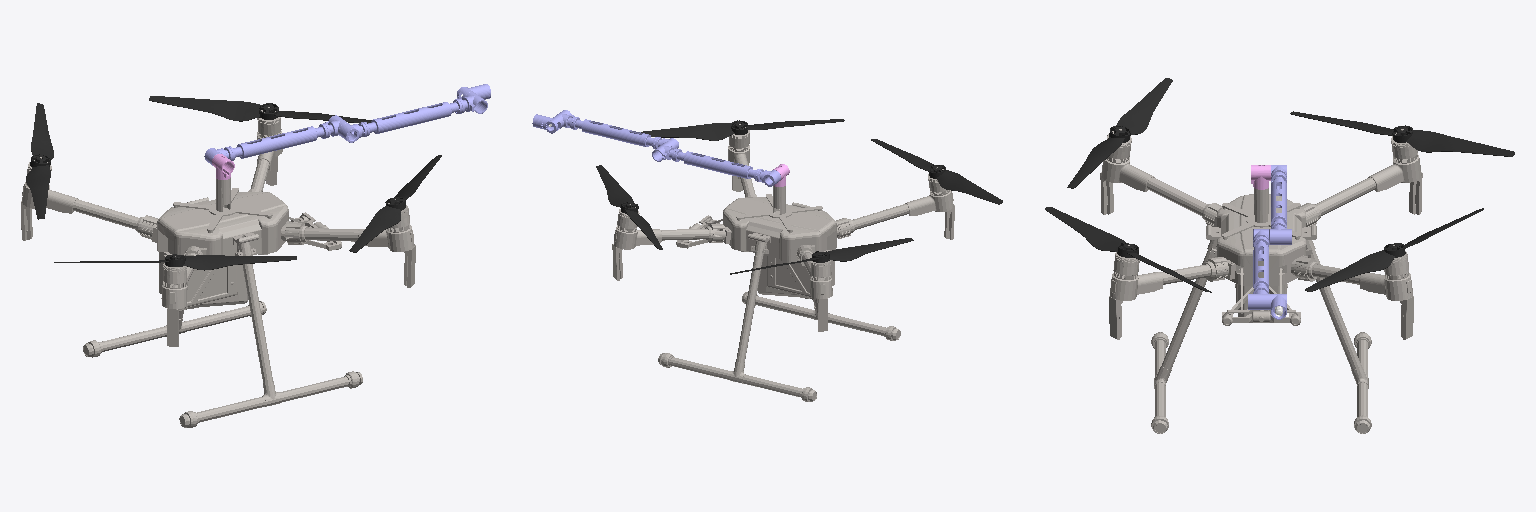
robot.urdf — new2:
<?xml version="1.0" encoding="utf-8"?>
<!-- This URDF was automatically created by SolidWorks to URDF Exporter! Originally created by [author] ([email redacted]) 
     Commit Version: 1.6.0-4-g7f85cfe  Build Version: 1.6.7995.38578
     For more information, please see http://wiki.ros.org/sw_urdf_exporter -->
<robot
  name="new2">
  <link
    name="base_link">
    <inertial>
      <origin
        xyz="-0.0201089284570512 -2.77631786448126E-06 -0.176933144781233"
        rpy="0 0 0" />
      <mass
        value="51.5159805638904" />
      <inertia
        ixx="1.08774874792804"
        ixy="-0.000444236694767279"
        ixz="-0.142228032907984"
        iyy="1.65793680664318"
        iyz="-1.35357674970298E-05"
        izz="1.45117254009097" />
    </inertial>
    <visual>
      <origin
        xyz="0 0 0"
        rpy="0 0 0" />
      <geometry>
        <mesh
          filename="../meshes/base_link.STL" />
      </geometry>
      <material
        name="">
        <color
          rgba="0.776470588235294 0.756862745098039 0.737254901960784 1" />
      </material>
    </visual>
    <collision>
      <origin
        xyz="0 0 0"
        rpy="0 0 0" />
      <geometry>
        <mesh
          filename="../meshes/base_link.STL" />
      </geometry>
    </collision>
  </link>
  <link
    name="left1_link">
    <inertial>
      <origin
        xyz="3.15813883955407E-06 -8.26032661049858E-07 0.0432905862959428"
        rpy="0 0 0" />
      <mass
        value="0.231951690789109" />
      <inertia
        ixx="0.00488971329049445"
        ixy="0.00518070195693205"
        ixz="-2.52614197387892E-08"
        iyy="0.00578737545063464"
        iyz="1.01279503264898E-08"
        izz="0.0106407199839185" />
    </inertial>
    <visual>
      <origin
        xyz="0 0 0"
        rpy="0 0 0" />
      <geometry>
        <mesh
          filename="../meshes/left1_link.STL" />
      </geometry>
      <material
        name="">
        <color
          rgba="0.223529411764706 0.223529411764706 0.223529411764706 1" />
      </material>
    </visual>
    <collision>
      <origin
        xyz="0 0 0"
        rpy="0 0 0" />
      <geometry>
        <mesh
          filename="../meshes/left1_link.STL" />
      </geometry>
    </collision>
  </link>
  <joint
    name="left1_joint"
    type="continuous">
    <origin
      xyz="0.52589 0.52825 0.07739"
      rpy="0.10906 -0.087356 0" />
    <parent
      link="base_link" />
    <child
      link="left1_link" />
    <axis
      xyz="0 0 1" />
  </joint>
  <link
    name="left2_link">
    <inertial>
      <origin
        xyz="0.00173040075826469 -0.00211432817480195 0.0332357241186076"
        rpy="0 0 0" />
      <mass
        value="0.237839201882468" />
      <inertia
        ixx="0.00193817437357072"
        ixy="-0.000986862305371164"
        ixz="5.61184791102314E-05"
        iyy="0.000679964848816823"
        iyz="8.60808416281367E-05"
        izz="0.00257442572178748" />
    </inertial>
    <visual>
      <origin
        xyz="0 0 0"
        rpy="0 0 0" />
      <geometry>
        <mesh
          filename="../meshes/left2_link.STL" />
      </geometry>
      <material
        name="">
        <color
          rgba="0.223529411764706 0.223529411764706 0.223529411764706 1" />
      </material>
    </visual>
    <collision>
      <origin
        xyz="0 0 0"
        rpy="0 0 0" />
      <geometry>
        <mesh
          filename="../meshes/left2_link.STL" />
      </geometry>
    </collision>
  </link>
  <joint
    name="left2_joint"
    type="continuous">
    <origin
      xyz="-0.5512 0.56001 0.092971"
      rpy="0.10948 0 0" />
    <parent
      link="base_link" />
    <child
      link="left2_link" />
    <axis
      xyz="0 0 1" />
  </joint>
  <link
    name="right1_link">
    <inertial>
      <origin
        xyz="-6.8843E-07 -2.7373E-06 0.038414"
        rpy="0 0 0" />
      <mass
        value="0.23195" />
      <inertia
        ixx="0.0045043"
        ixy="-0.0051327"
        ixz="1.4863E-08"
        iyy="0.0061727"
        iyz="2.517E-08"
        izz="0.010641" />
    </inertial>
    <visual>
      <origin
        xyz="0 0 0"
        rpy="0 0 0" />
      <geometry>
        <mesh
          filename="../meshes/right1_link.STL" />
      </geometry>
      <material
        name="">
        <color
          rgba="0.22353 0.22353 0.22353 1" />
      </material>
    </visual>
    <collision>
      <origin
        xyz="0 0 0"
        rpy="0 0 0" />
      <geometry>
        <mesh
          filename="../meshes/right1_link.STL" />
      </geometry>
    </collision>
  </link>
  <joint
    name="right1_joint"
    type="continuous">
    <origin
      xyz="0.52547 -0.52772 0.08222"
      rpy="-0.10906 -0.087356 0" />
    <parent
      link="base_link" />
    <child
      link="right1_link" />
    <axis
      xyz="0 0 1" />
  </joint>
  <link
    name="right2_link">
    <inertial>
      <origin
        xyz="0.002239 -0.00097223 0.016162"
        rpy="0 0 0" />
      <mass
        value="0.23784" />
      <inertia
        ixx="0.00045811"
        ixy="0.00080872"
        ixz="-2.0409E-07"
        iyy="0.0021551"
        iyz="2.7954E-07"
        izz="0.0025793" />
    </inertial>
    <visual>
      <origin
        xyz="0 0 0"
        rpy="0 0 0" />
      <geometry>
        <mesh
          filename="../meshes/right2_link.STL" />
      </geometry>
      <material
        name="">
        <color
          rgba="0.22353 0.22353 0.22353 1" />
      </material>
    </visual>
    <collision>
      <origin
        xyz="0 0 0"
        rpy="0 0 0" />
      <geometry>
        <mesh
          filename="../meshes/right2_link.STL" />
      </geometry>
    </collision>
  </link>
  <joint
    name="right2_joint"
    type="continuous">
    <origin
      xyz="-0.54972 -0.55807 0.10989"
      rpy="-0.10906 0.087356 0" />
    <parent
      link="base_link" />
    <child
      link="right2_link" />
    <axis
      xyz="0 0 1" />
  </joint>
  <link
    name="link2">
    <inertial>
      <origin
        xyz="2.85788322966843E-07 -0.00025978560628231 0.0362411422370292"
        rpy="0 0 0" />
      <mass
        value="0.18738358040081" />
      <inertia
        ixx="0.00020579885646994"
        ixy="-7.19710243232307E-13"
        ixz="-2.8495125819787E-11"
        iyy="0.000194901324742815"
        iyz="-1.2358955026709E-06"
        izz="0.000144059212151207" />
    </inertial>
    <visual>
      <origin
        xyz="0 0 0"
        rpy="0 0 0" />
      <geometry>
        <mesh
          filename="../meshes/link2.STL" />
      </geometry>
      <material
        name="">
        <color
          rgba="1 0.752941176470588 1 1" />
      </material>
    </visual>
    <collision>
      <origin
        xyz="0 0 0"
        rpy="0 0 0" />
      <geometry>
        <mesh
          filename="../meshes/link2.STL" />
      </geometry>
    </collision>
  </link>
  <joint
    name="joint2"
    type="revolute">
    <origin
      xyz="0.0001427 -0.00023506 0.1546"
      rpy="0 0 0" />
    <parent
      link="base_link" />
    <child
      link="link2" />
    <axis
      xyz="0 0 1" />
    <limit
      lower="-3.14"
      upper="3.14"
      effort="100"
      velocity="1" />
  </joint>
  <link
    name="link3">
    <inertial>
      <origin
        xyz="0.28703 1.896E-09 0.031412"
        rpy="0 0 0" />
      <mass
        value="0.97581" />
      <inertia
        ixx="0.00065271"
        ixy="-1.5536E-09"
        ixz="-1.9589E-05"
        iyy="0.012374"
        iyz="-1.4541E-09"
        izz="0.012302" />
    </inertial>
    <visual>
      <origin
        xyz="0 0 0"
        rpy="0 0 0" />
      <geometry>
        <mesh
          filename="../meshes/link3.STL" />
      </geometry>
      <material
        name="">
        <color
          rgba="0.75294 0.75294 1 1" />
      </material>
    </visual>
    <collision>
      <origin
        xyz="0 0 0"
        rpy="0 0 0" />
      <geometry>
        <mesh
          filename="../meshes/link3.STL" />
      </geometry>
    </collision>
  </link>
  <joint
    name="joint3"
    type="revolute">
    <origin
      xyz="0 0.03799 0.06"
      rpy="-1.5708 0 0" />
    <parent
      link="link2" />
    <child
      link="link3" />
    <axis
      xyz="0 0 1" />
    <limit
      lower="-3.14"
      upper="3.14"
      effort="100"
      velocity="1" />
  </joint>
  <link
    name="link4">
    <inertial>
      <origin
        xyz="0.28702 1.8886E-09 0.031412"
        rpy="0 0 0" />
      <mass
        value="0.97581" />
      <inertia
        ixx="0.00065271"
        ixy="1.4508E-09"
        ixz="-1.9589E-05"
        iyy="0.012374"
        iyz="1.4672E-09"
        izz="0.012302" />
    </inertial>
    <visual>
      <origin
        xyz="0 0 0"
        rpy="0 0 0" />
      <geometry>
        <mesh
          filename="../meshes/link4.STL" />
      </geometry>
      <material
        name="">
        <color
          rgba="0.75294 0.75294 1 1" />
      </material>
    </visual>
    <collision>
      <origin
        xyz="0 0 0"
        rpy="0 0 0" />
      <geometry>
        <mesh
          filename="../meshes/link4.STL" />
      </geometry>
    </collision>
  </link>
  <joint
    name="joint4"
    type="revolute">
    <origin
      xyz="0.601 0 -0.0067403"
      rpy="3.1416 0 0" />
    <parent
      link="link3" />
    <child
      link="link4" />
    <axis
      xyz="0 0 1" />
    <limit
      lower="-3.14"
      upper="3.14"
      effort="100"
      velocity="1" />
  </joint>
  <link
    name="link5">
    <inertial>
      <origin
        xyz="0.025249 -8.2065E-09 0.029708"
        rpy="0 0 0" />
      <mass
        value="0.21518" />
      <inertia
        ixx="0.00016489"
        ixy="4.4802E-12"
        ixz="-6.7264E-06"
        iyy="0.00031"
        iyz="-3.7849E-11"
        izz="0.0003054" />
    </inertial>
    <visual>
      <origin
        xyz="0 0 0"
        rpy="0 0 0" />
      <geometry>
        <mesh
          filename="../meshes/link5.STL" />
      </geometry>
      <material
        name="">
        <color
          rgba="0.75294 0.75294 1 1" />
      </material>
    </visual>
    <collision>
      <origin
        xyz="0 0 0"
        rpy="0 0 0" />
      <geometry>
        <mesh
          filename="../meshes/link5.STL" />
      </geometry>
    </collision>
  </link>
  <joint
    name="joint5"
    type="revolute">
    <origin
      xyz="0.601 0 -0.0067403"
      rpy="3.1416 0 0" />
    <parent
      link="link4" />
    <child
      link="link5" />
    <axis
      xyz="0 0 1" />
    <limit
      lower="-3.14"
      upper="3.14"
      effort="100"
      velocity="1" />
  </joint>
  <link
    name="camera">
    <inertial>
      <origin
        xyz="1.40693801311542E-05 -9.00051857511963E-05 0.0401974850494877"
        rpy="0 0 0" />
      <mass
        value="0.0535286320688638" />
      <inertia
        ixx="1.01438206685898E-05"
        ixy="1.05303664716066E-08"
        ixz="-1.62252966545614E-08"
        iyy="1.01856908865914E-05"
        iyz="-2.31205500800272E-08"
        izz="6.42842572709236E-06" />
    </inertial>
    <visual>
      <origin
        xyz="0 0 0"
        rpy="0 0 0" />
      <geometry>
        <mesh
          filename="../meshes/camera.STL" />
      </geometry>
      <material
        name="">
        <color
          rgba="1 1 1 1" />
      </material>
    </visual>
    <collision>
      <origin
        xyz="0 0 0"
        rpy="0 0 0" />
      <geometry>
        <mesh
          filename="../meshes/camera.STL" />
      </geometry>
    </collision>
  </link>
  <joint
    name="camera_joint"
    type="fixed">
    <origin
      xyz="0.02085 0 0.03125"
      rpy="1.5708 0.00086426 1.5708" />
    <parent
      link="link5" />
    <child
      link="camera" />
    <axis
      xyz="0 0 1" />
  </joint>
</robot>

--- Render facts (derived) ---
The picture shows the robot from 3 angles, left to right: view 1: azimuth 30°, elevation 25°; view 2: azimuth 150°, elevation 25°; view 3: azimuth 270°, elevation 25°; orthographic projection.
Robot: new2 — 10 links, 9 joints (4 revolute, 4 continuous, 1 fixed); root link base_link; default pose: all joints at 0.
Links seen in each view (by area): view 1: base_link, link4, left1_link, link3, left2_link, right1_link, right2_link; view 2: base_link, right1_link, link3, right2_link, link4, left1_link, left2_link; view 3: base_link, left2_link, right2_link, left1_link, right1_link, link4, link3.
Boxes of the visible links, bbox=[...] form: base_link: bbox=[21, 107, 415, 427]; link4: bbox=[339, 92, 487, 142]; left1_link: bbox=[149, 96, 371, 123]; link3: bbox=[204, 115, 348, 165]; left2_link: bbox=[26, 103, 53, 219]; right1_link: bbox=[349, 155, 441, 252]; right2_link: bbox=[54, 254, 296, 270]; base_link: bbox=[612, 124, 954, 401]; right1_link: bbox=[641, 119, 844, 140]; link3: bbox=[652, 143, 780, 186]; right2_link: bbox=[871, 139, 1002, 204]; link4: bbox=[555, 110, 678, 148]; left1_link: bbox=[596, 165, 662, 249]; left2_link: bbox=[730, 238, 913, 274]; base_link: bbox=[1100, 129, 1422, 433]; left2_link: bbox=[1290, 111, 1514, 156]; right2_link: bbox=[1067, 78, 1172, 188]; left1_link: bbox=[1305, 208, 1483, 291]; right1_link: bbox=[1045, 207, 1211, 292]; link4: bbox=[1248, 229, 1270, 309]; link3: bbox=[1269, 165, 1291, 244].
Size in the robot's own frame: 2.33 by 1.85 by 0.9804 metres.
Meshes: 10 distinct files referenced, 10 mesh visuals loaded (10 binary STL).